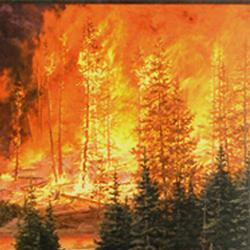fire: (82, 123, 133, 202), (82, 46, 134, 121), (191, 86, 218, 173), (31, 176, 65, 202)
